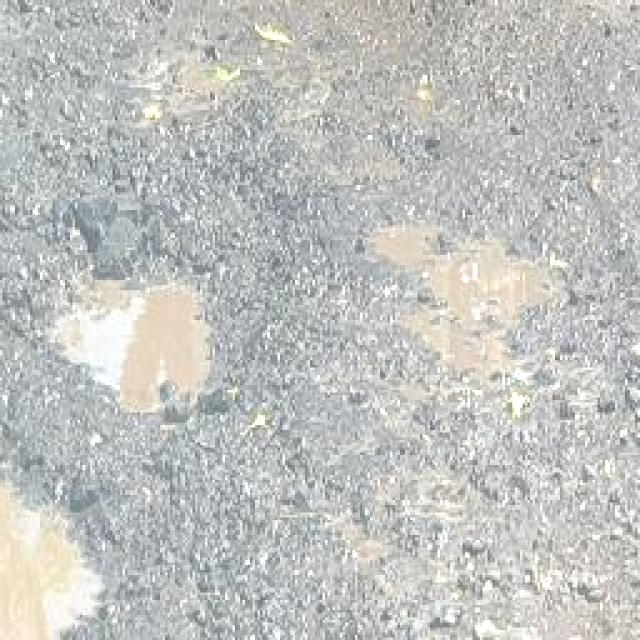stagnation: (360, 210, 570, 392), (34, 260, 222, 430), (0, 465, 122, 640)
